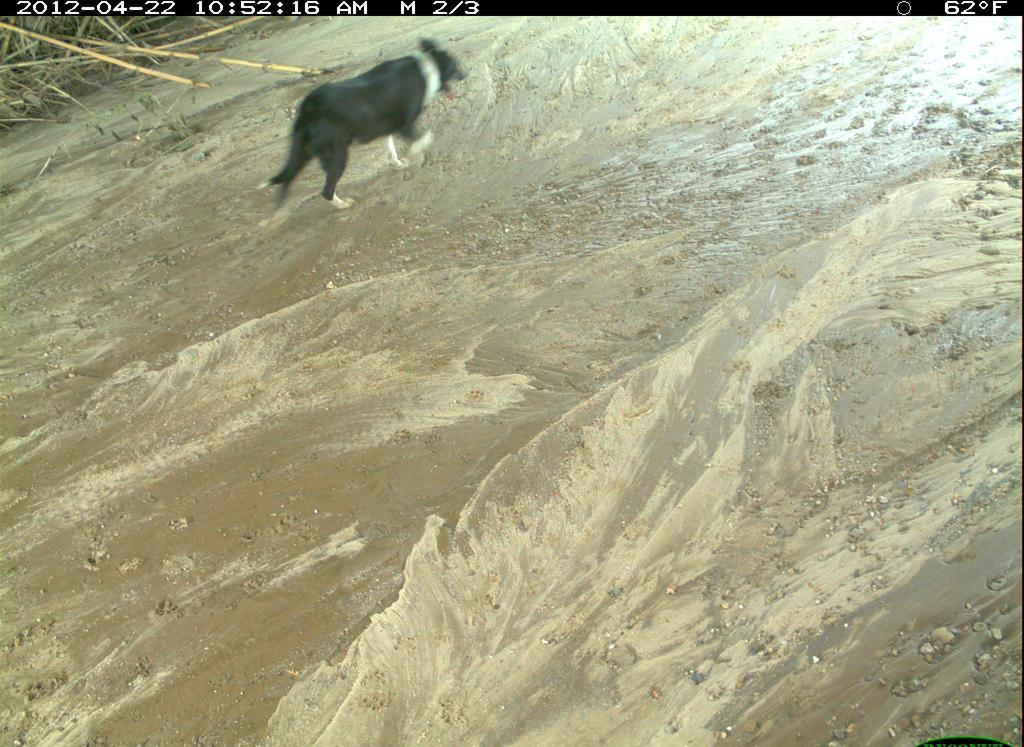dog: (504, 70, 945, 448)
